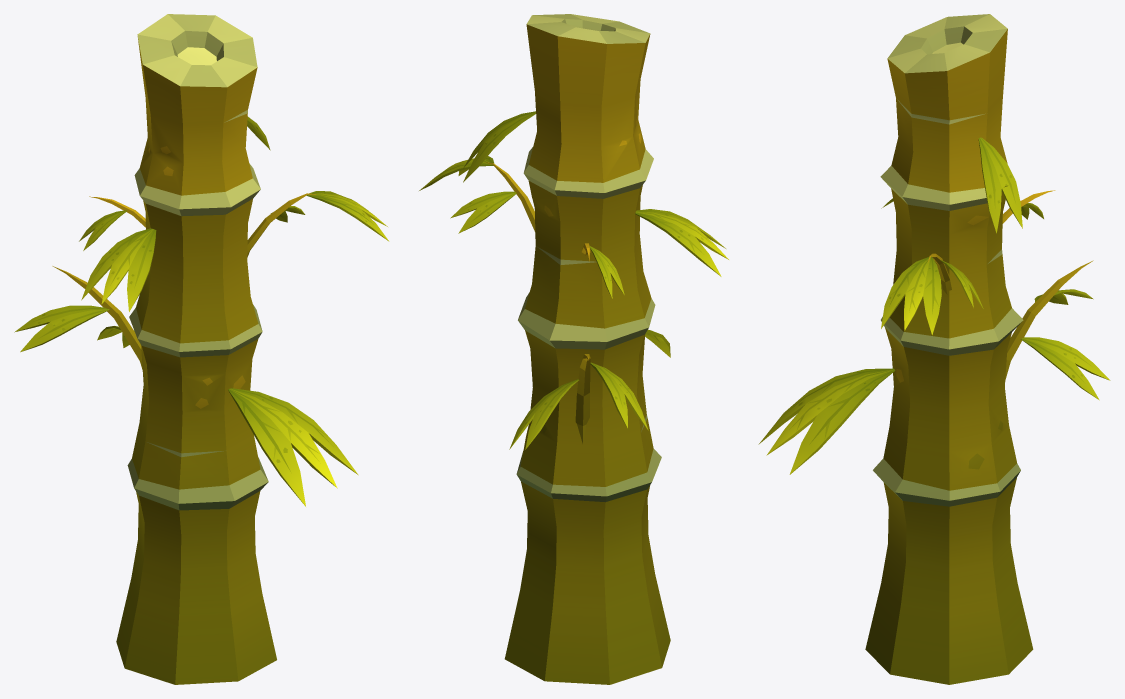
File: bamboo_1.001.glb
3 renders of one model, left to right at view 1: azimuth 30°, elevation 25°; view 2: azimuth 150°, elevation 25°; view 3: azimuth 270°, elevation 25°, orthographic. The views are drawn at different scales.
Parts seen in each view (by area): view 1: bamboo_1.001; view 2: bamboo_1.001; view 3: bamboo_1.001.
Part boxes in pixels (x1,y1,x2,y2): bamboo_1.001: (14, 14, 389, 684); bamboo_1.001: (419, 14, 728, 684); bamboo_1.001: (758, 14, 1110, 684).
Size of the model in its own units: 1.72 by 3.43 by 1.77.
1 material, 1 textured.
